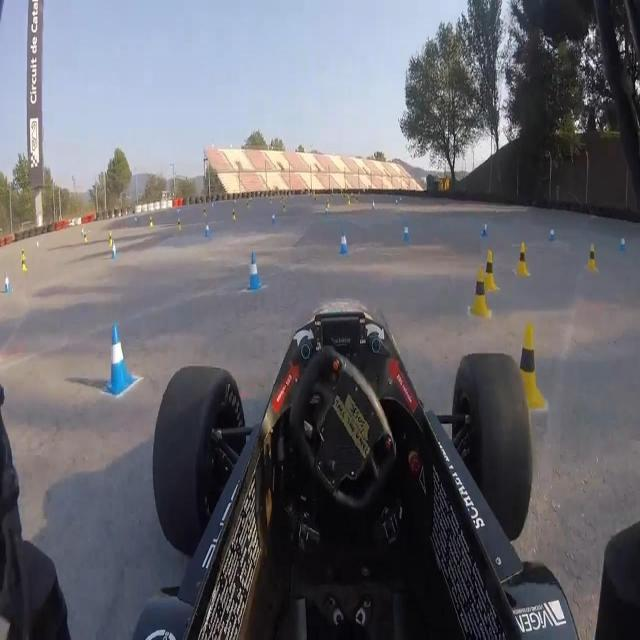blue_cone: (105, 320, 138, 396), (246, 254, 265, 294), (3, 270, 13, 294), (402, 220, 412, 243), (340, 232, 349, 257), (109, 239, 119, 260), (204, 221, 211, 239)
yellow_cone: (507, 318, 548, 412), (469, 268, 491, 320), (480, 249, 498, 294), (513, 241, 531, 277), (586, 244, 599, 273)
